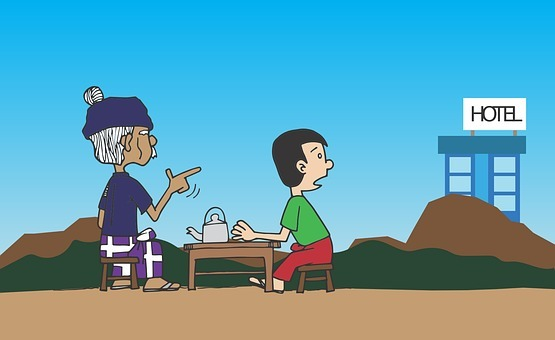chair: (295, 261, 344, 300), (95, 254, 140, 292)
diningtable: (180, 239, 290, 299)
person: (72, 88, 207, 294), (228, 127, 335, 293)
